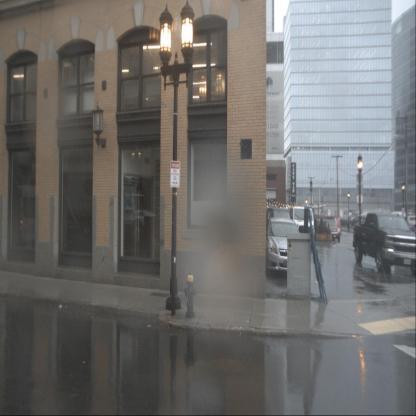vehicle-car: (0, 184, 46, 246), (263, 218, 303, 276), (264, 208, 292, 248), (287, 207, 315, 244), (317, 219, 341, 242)
vehicle-truck: (48, 174, 157, 257), (352, 211, 416, 274)
